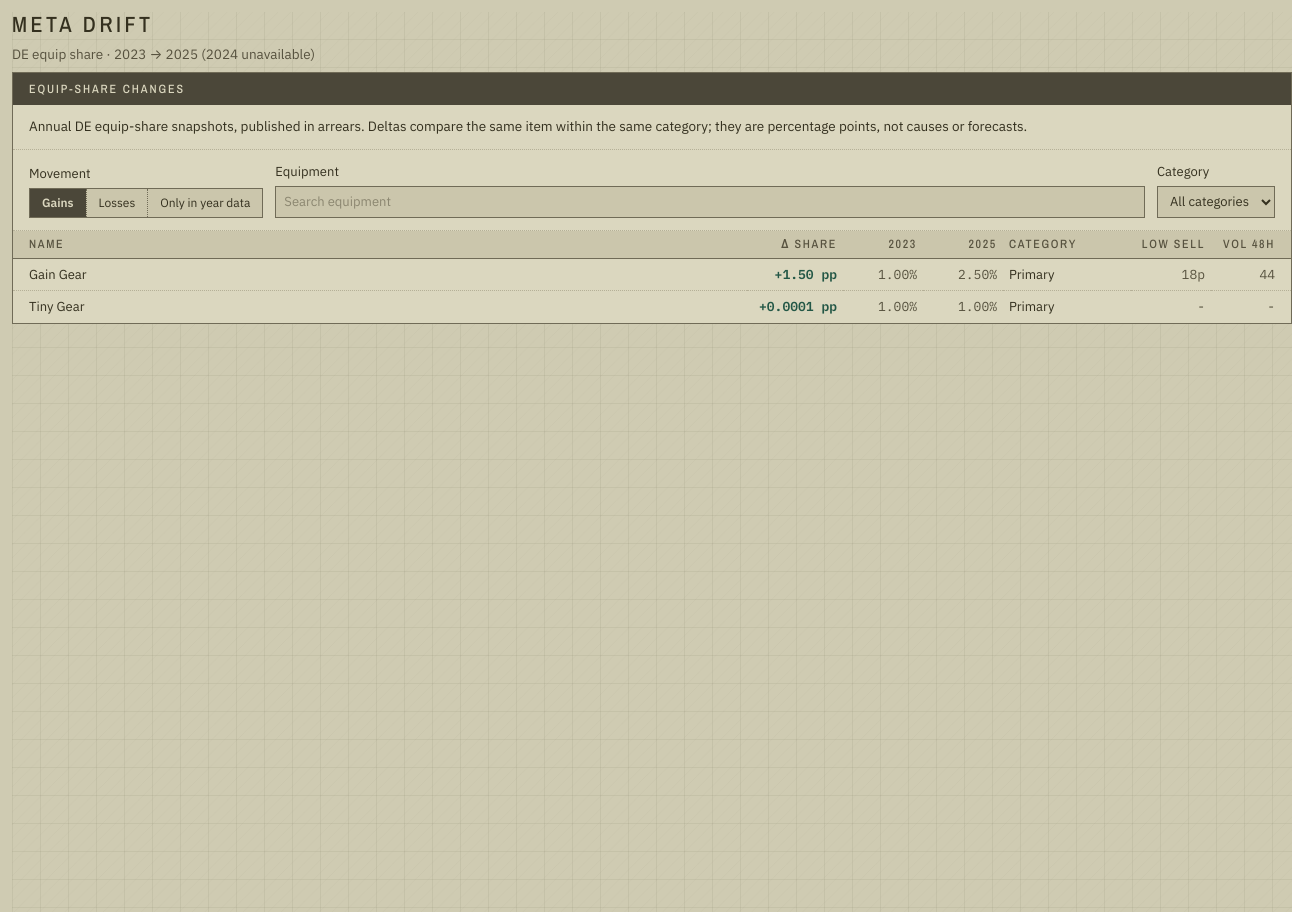
Test: MetaDriftPanel › filters categories/search and exposes loss and only-in-year tabs
Click the button "Losses": (116, 202) [86,188,147,216]
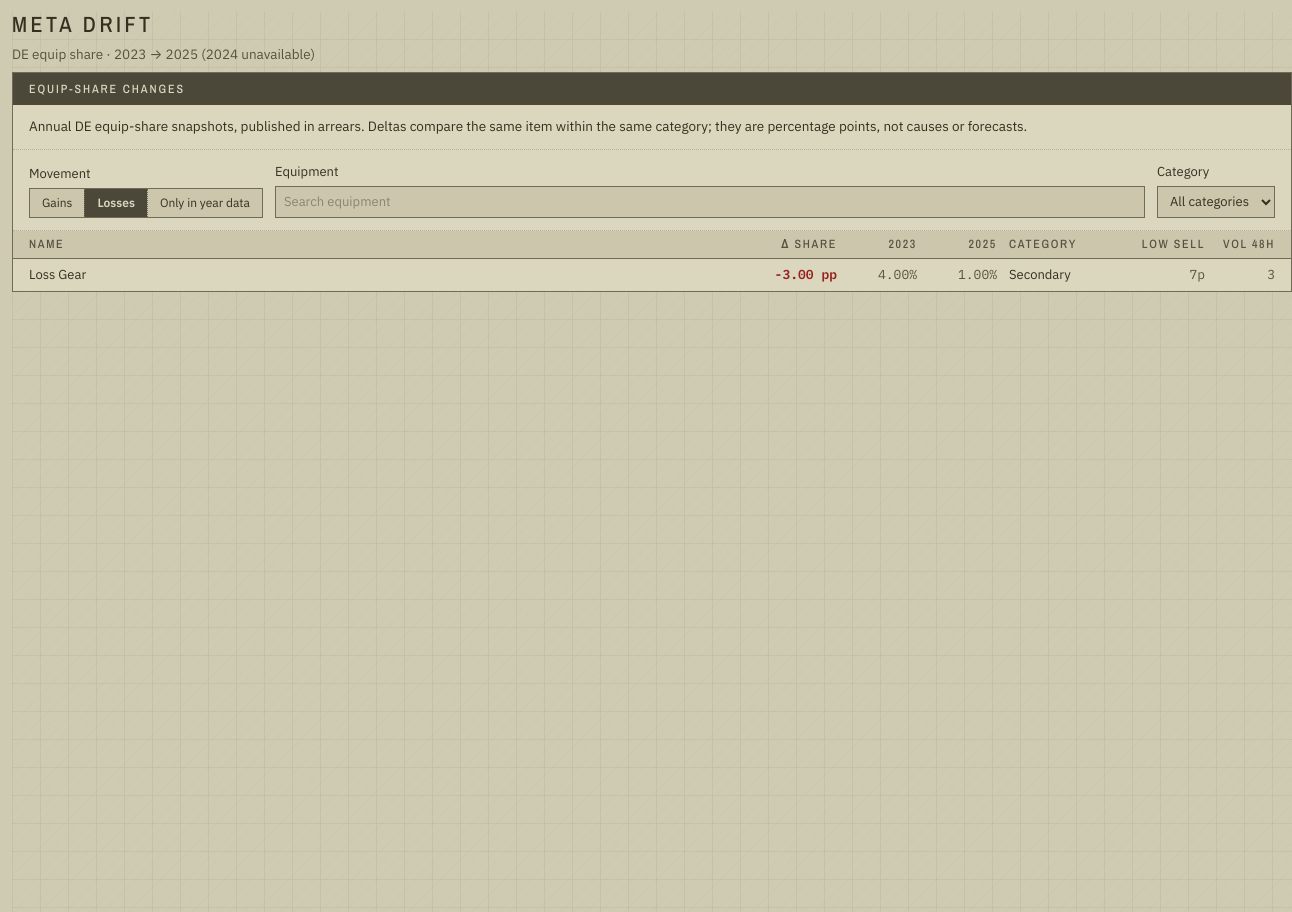
Expected: the text "Loss Gear" is shown, [13,258,747,290]
Expected: the text "-3.00 pp" is shown, [775,266,837,283]
Select "Primary" in the dropdown named "Filter meta drift category": (1216, 202) [1157,186,1275,218]
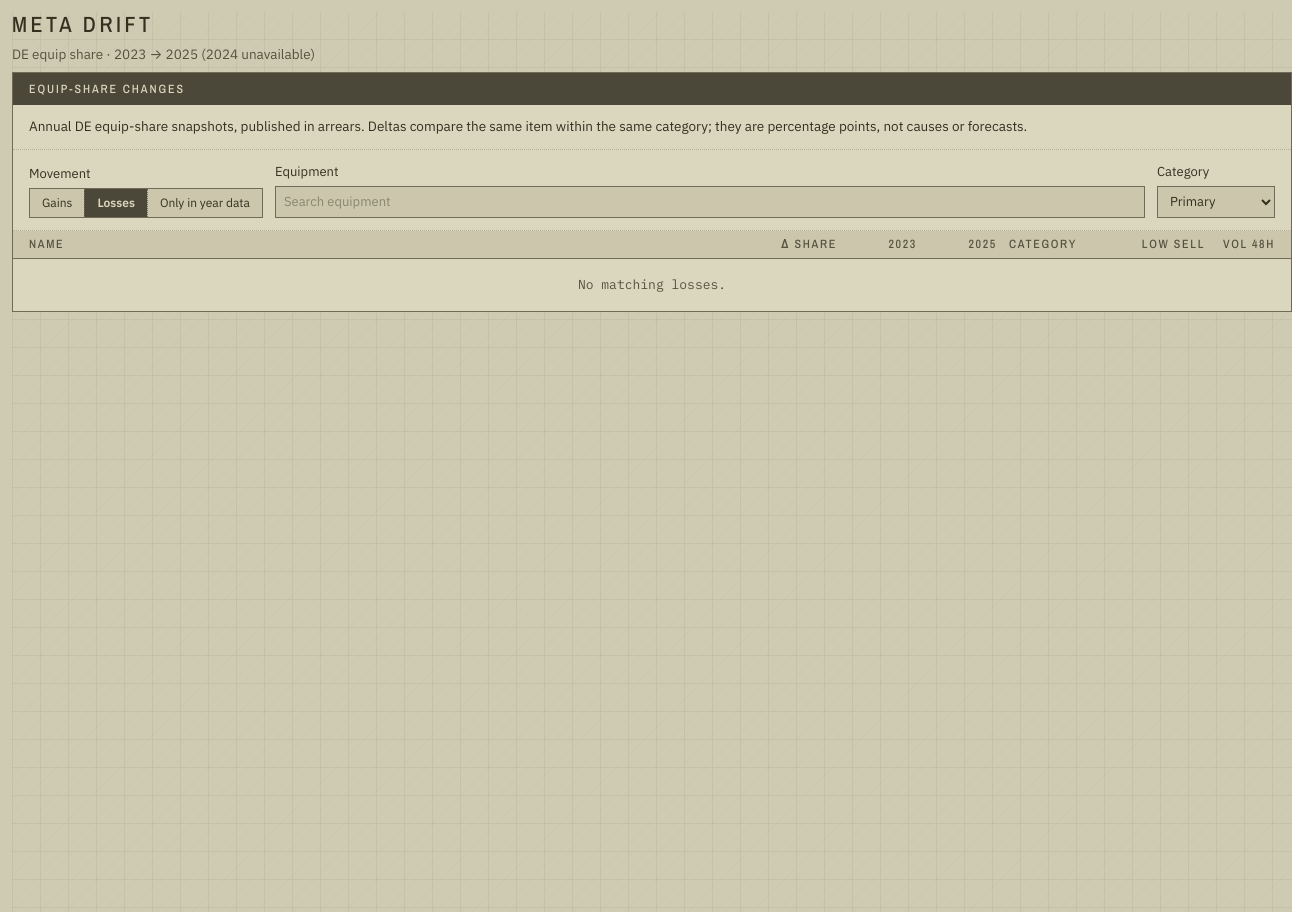
Expected: the text "Loss Gear" is gone
Click the button "Only in year data": (204, 202) [147,188,262,216]
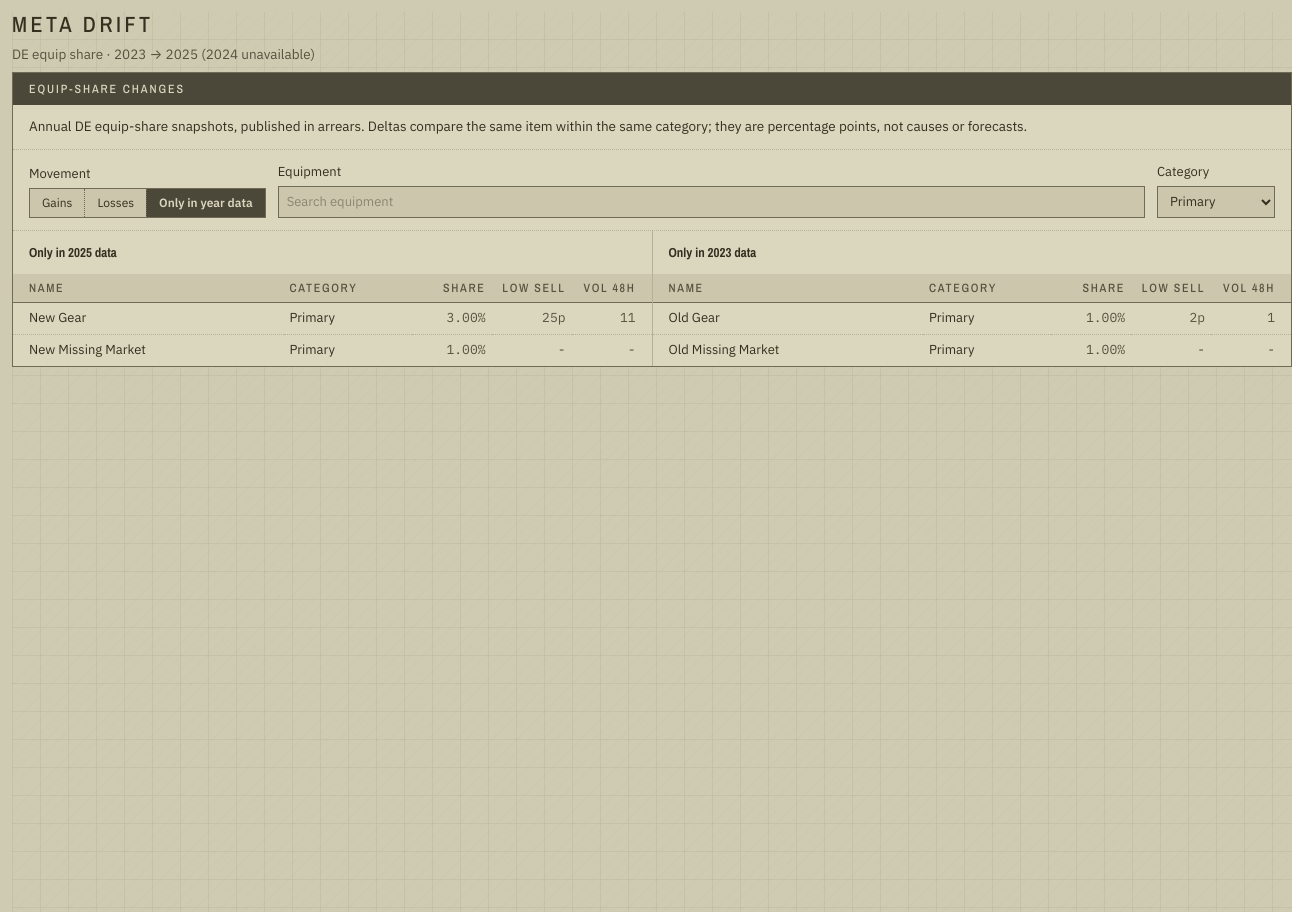
Expected: the heading "Only in 2025 data" is shown, [29,244,117,260]
Expected: the heading "Only in 2023 data" is shown, [668,244,756,260]
In the field named "Search meta drift": (711, 202) [278,186,1145,218], type "new"
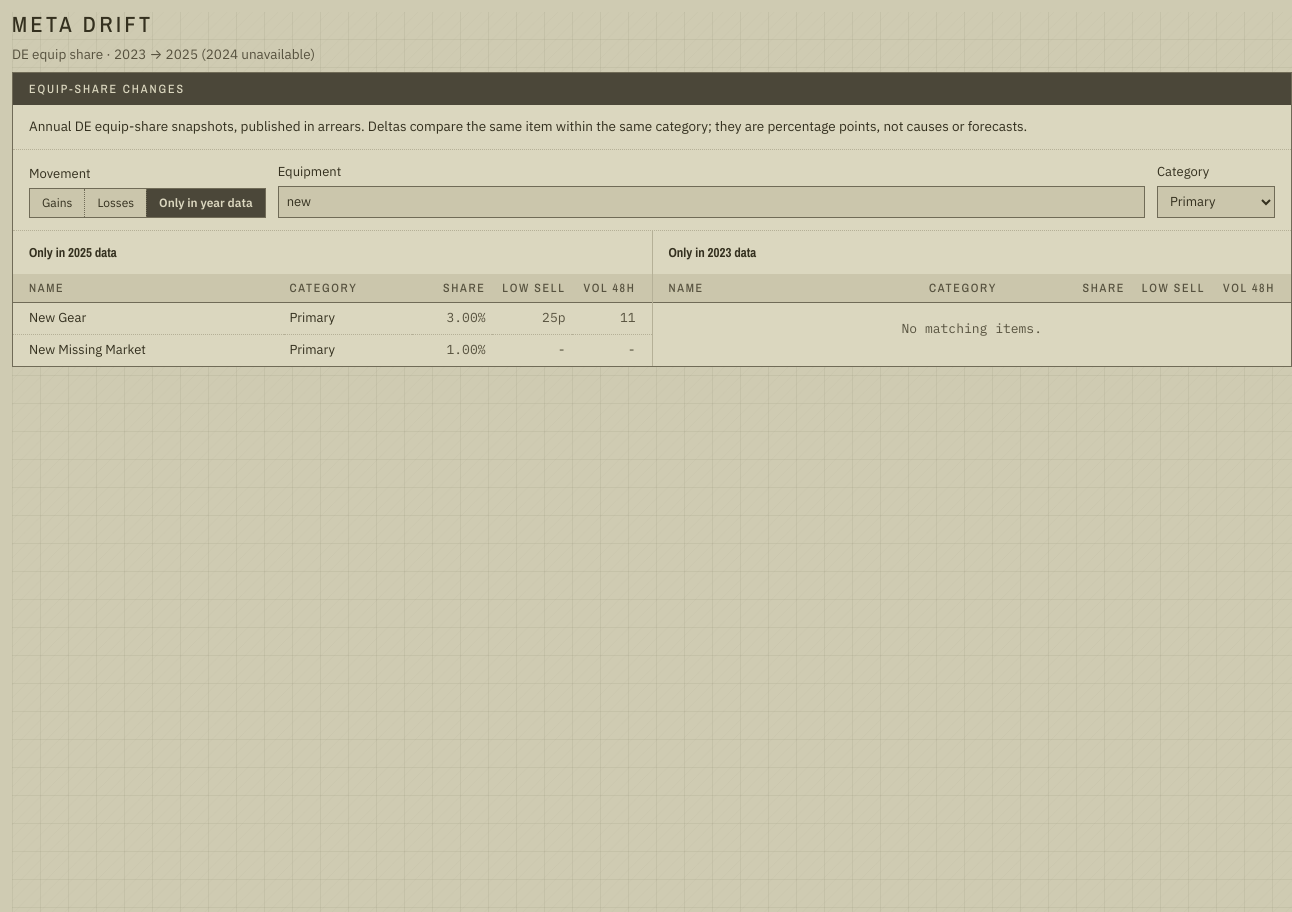
Expected: the text "New Gear" is shown, [13,302,284,334]
Expected: the text "New Missing Market" is shown, [13,334,284,366]
Expected: the text "Old Gear" is gone
